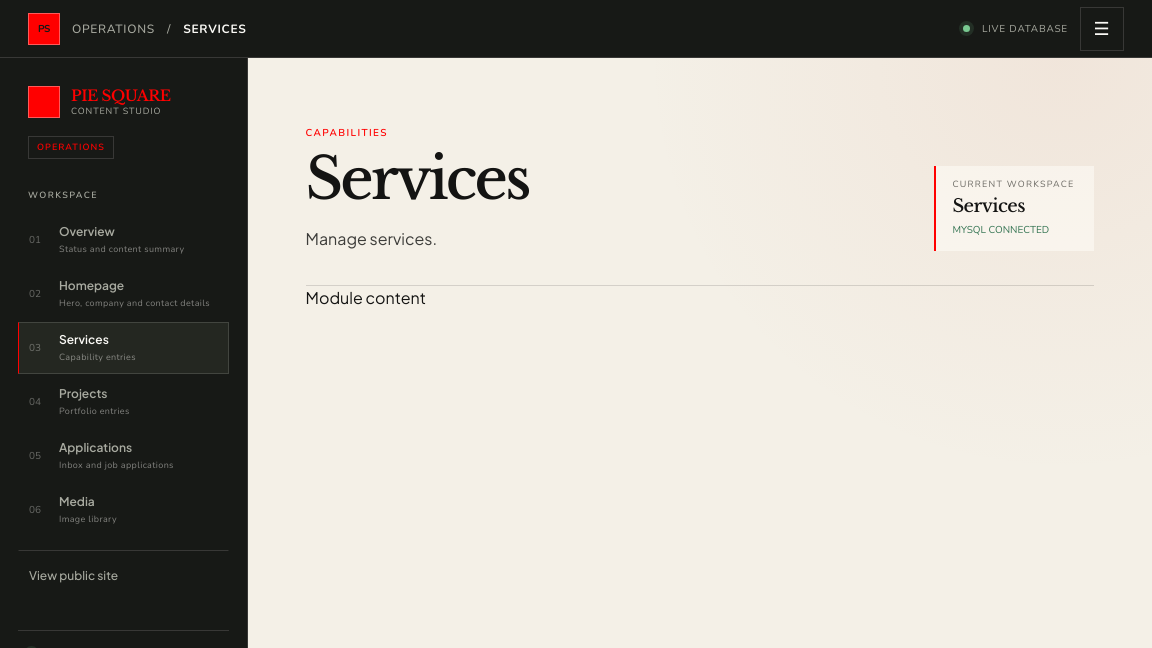
it: AdminShell › opens and closes the drawer with toggle and Escape
Click the button named "admin menu" at {"x": 1102, "y": 28}, box 1080,6 -> 1124,50
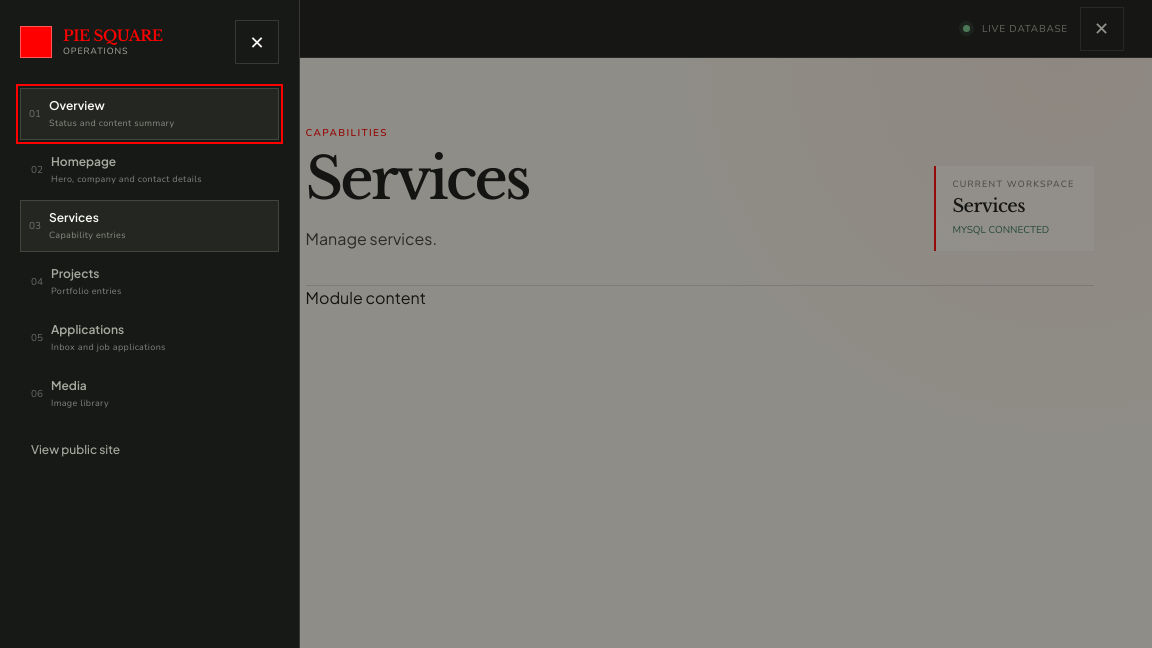
Expected: the button named "admin menu" is expanded, 1080,6 -> 1124,50
Press Escape
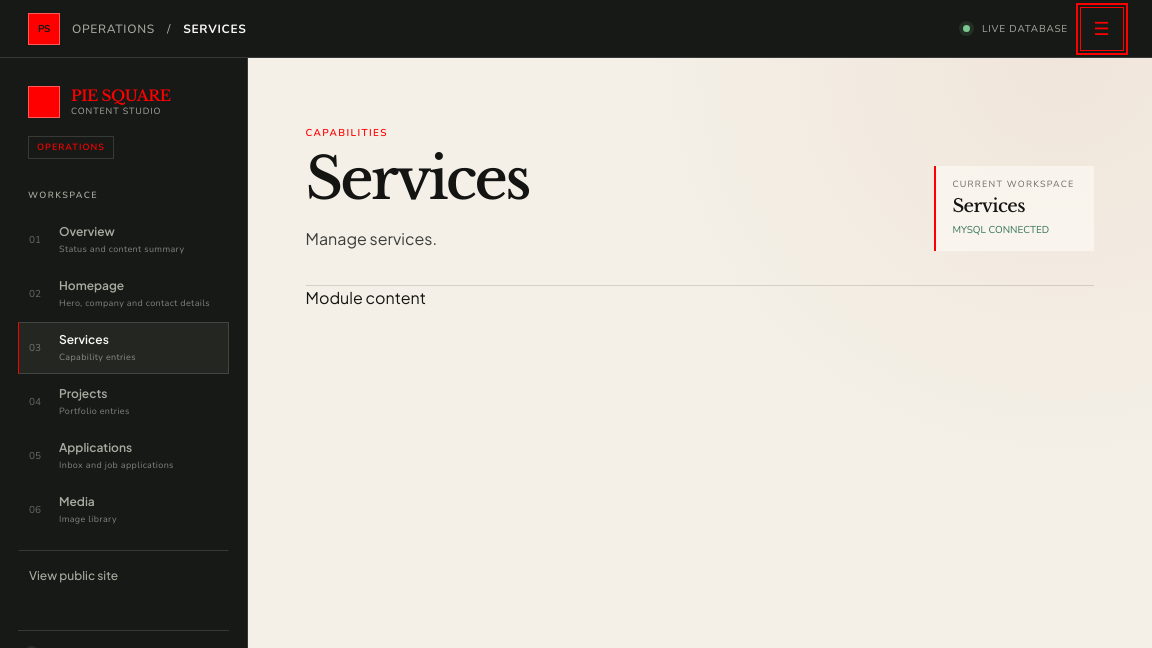
Expected: the button named "admin menu" is collapsed, 1080,6 -> 1124,50
